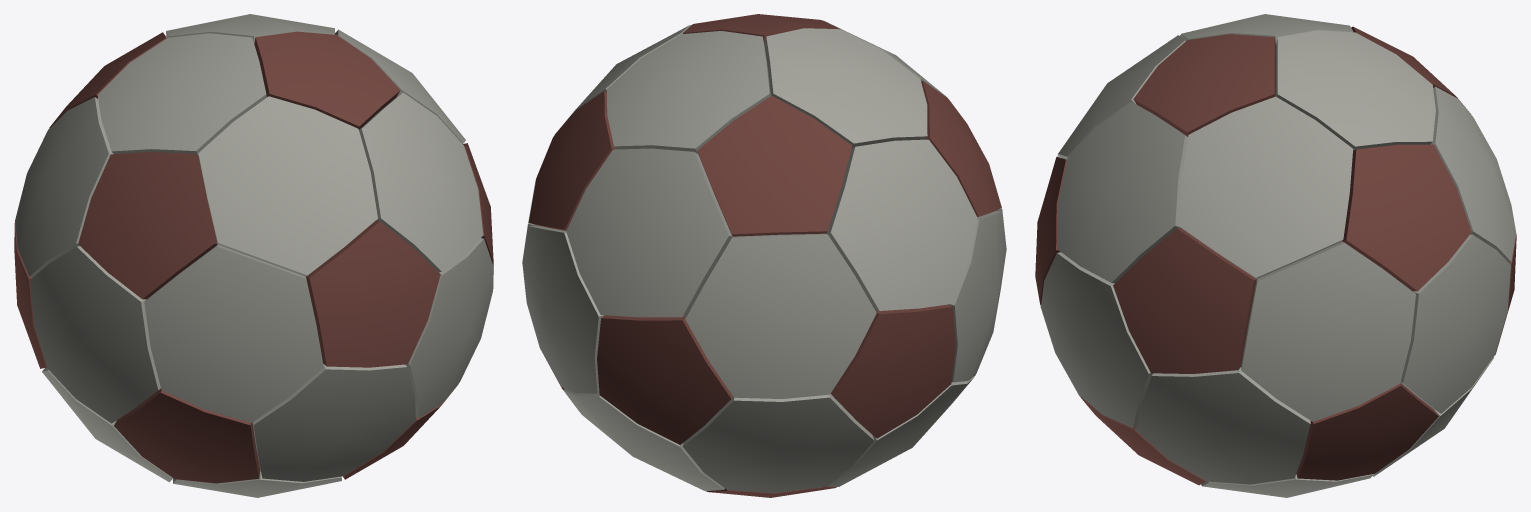
Rendered from SoccerBall_Red.fbx.
3 views of the same model, side by side, from view 1: azimuth 30°, elevation 25°; view 2: azimuth 150°, elevation 25°; view 3: azimuth 270°, elevation 25° (orthographic).
Visible parts, largest first — view 1: SoccerBlue_Red; view 2: SoccerBlue_Red; view 3: SoccerBlue_Red.
Part boxes in pixels (x1=…): SoccerBlue_Red: x1=14, y1=14, x2=493, y2=497; SoccerBlue_Red: x1=522, y1=14, x2=1006, y2=497; SoccerBlue_Red: x1=1035, y1=14, x2=1516, y2=497.
Size of the model in its own units: 38.7 by 39.19 by 38.99.
